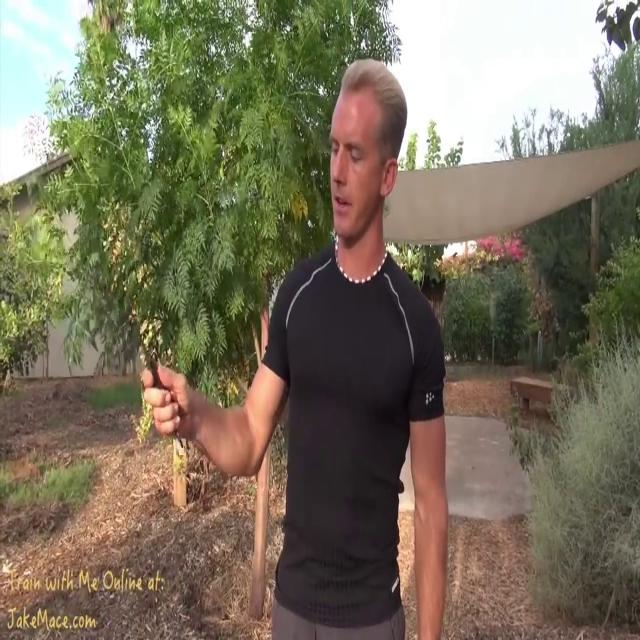knife: (122, 308, 186, 461)
